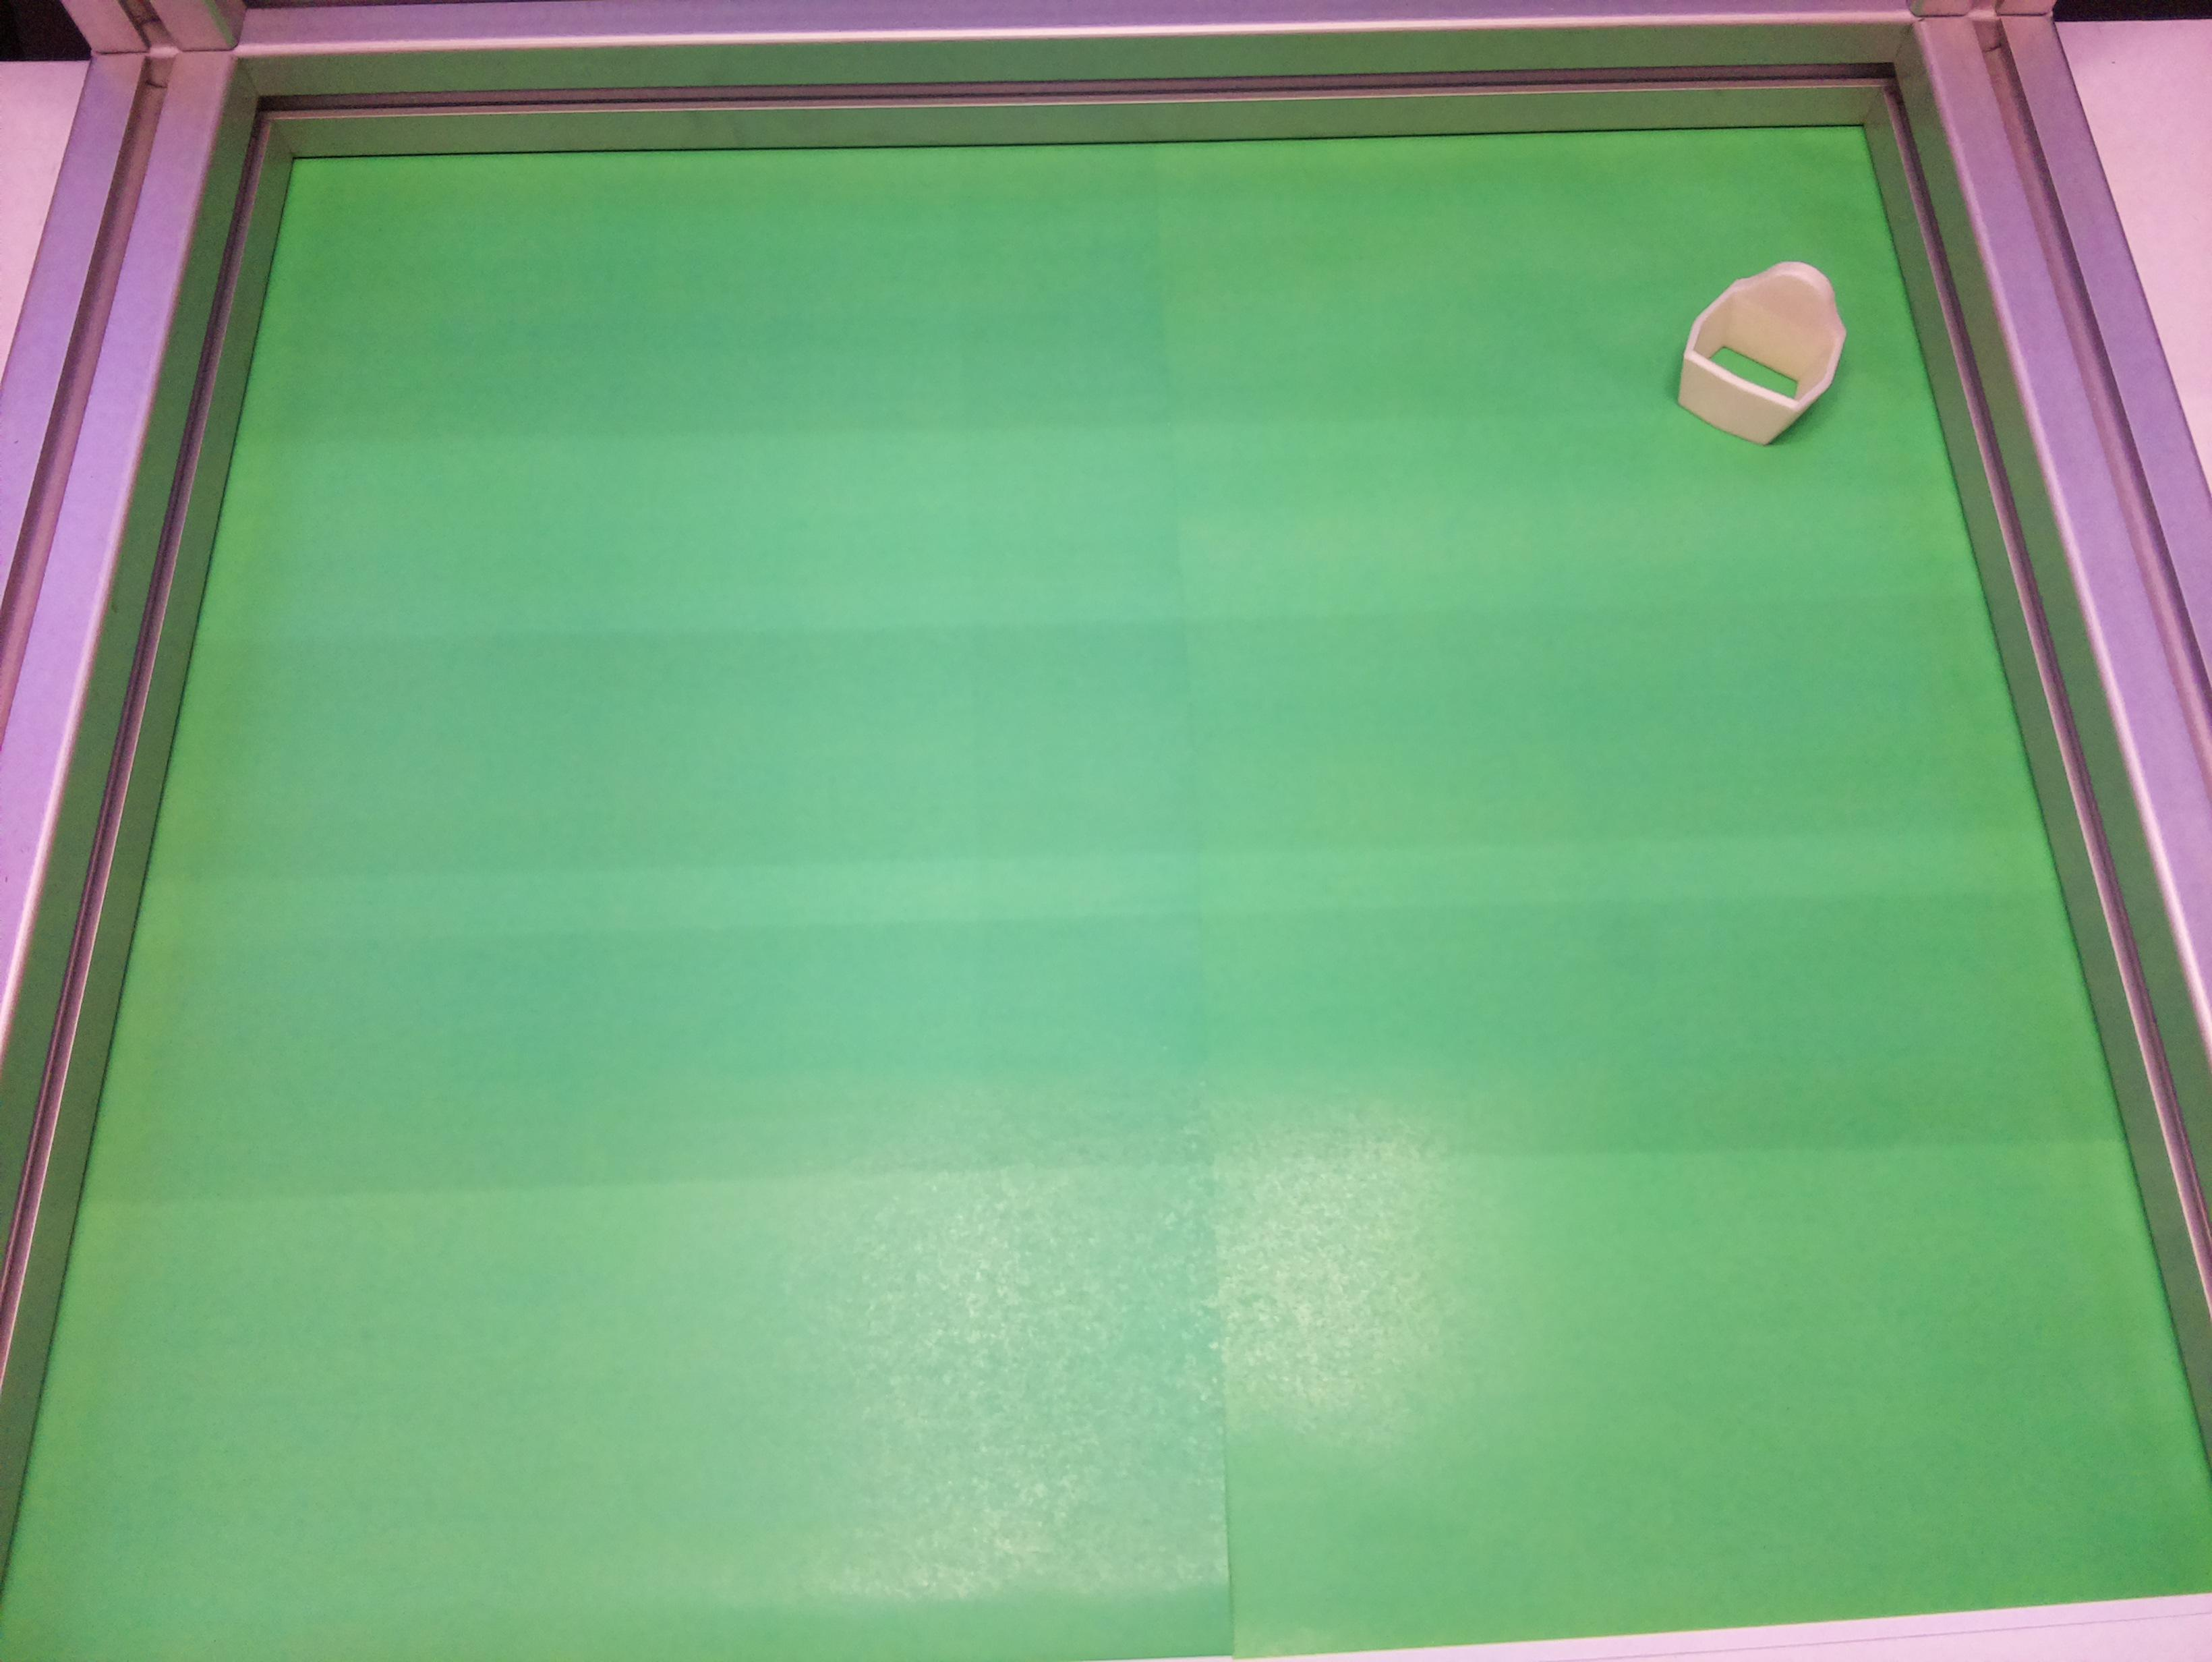tool_holder: (1646, 232, 1882, 470)
